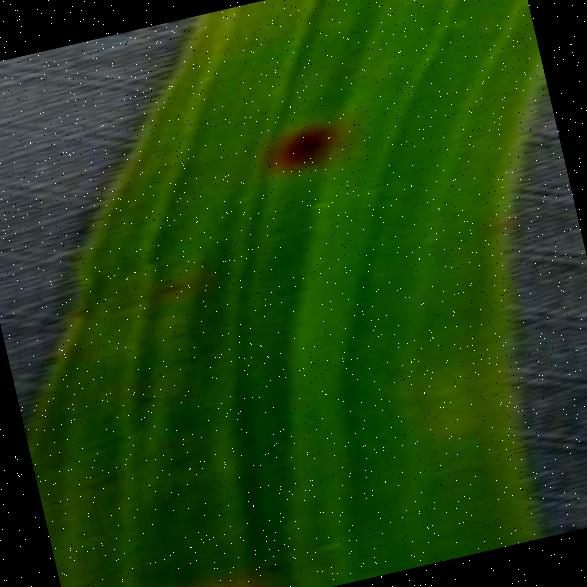Brown_Spot: (240, 102, 352, 187), (150, 268, 187, 302), (124, 382, 160, 410), (256, 553, 286, 578), (136, 250, 166, 270)
